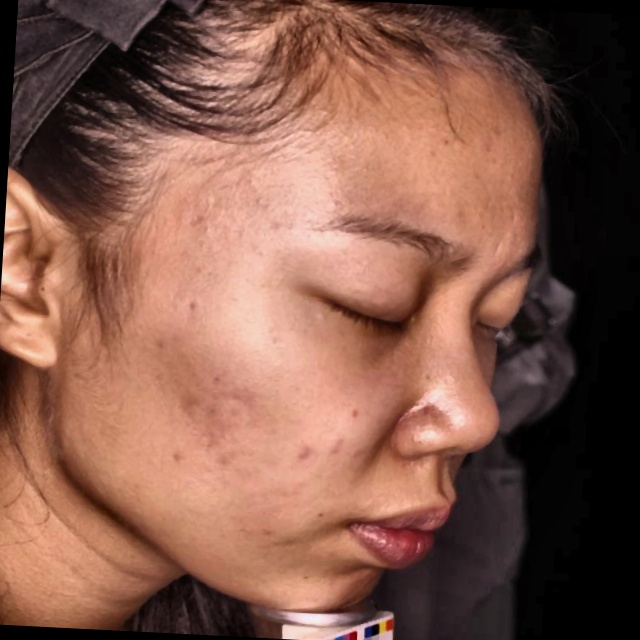comedone: (280, 438, 318, 470), (320, 429, 353, 463)
